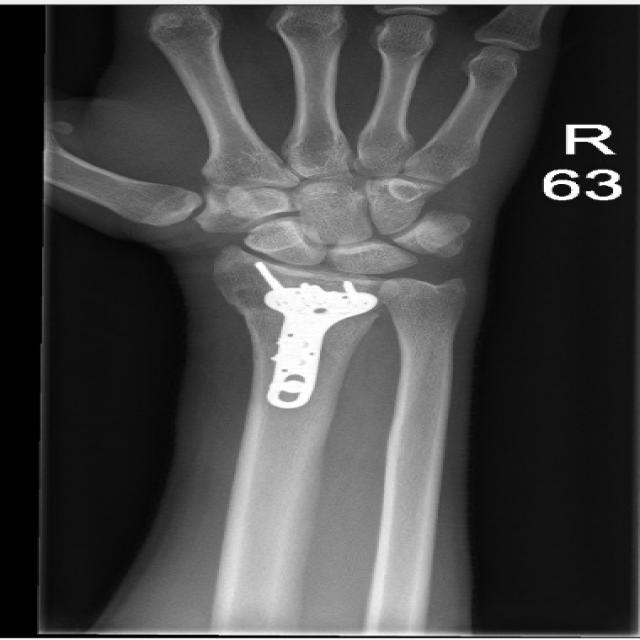x-ray: (238, 258, 402, 416)
